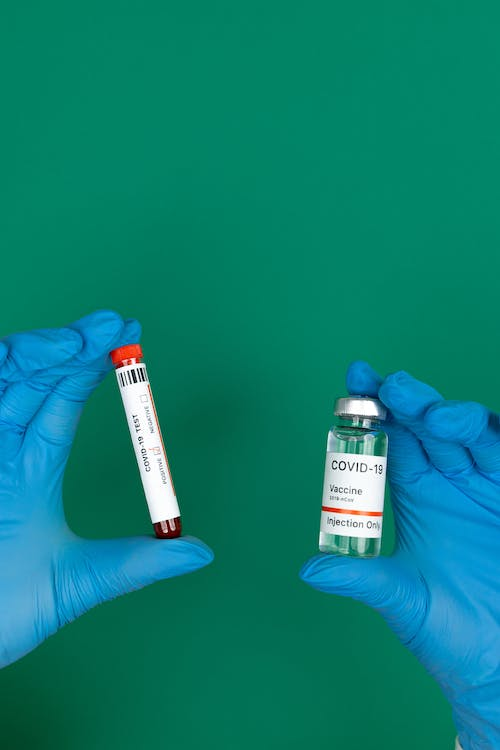blood: (154, 516, 183, 541)
